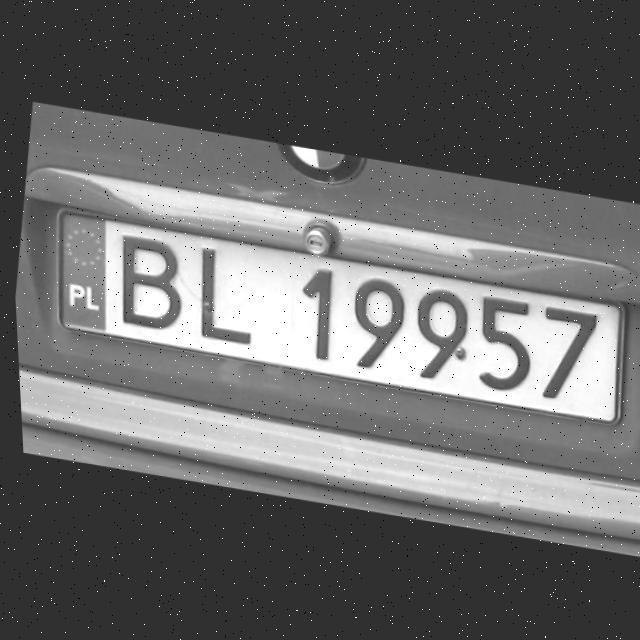license-plates: (59, 210, 626, 424)
